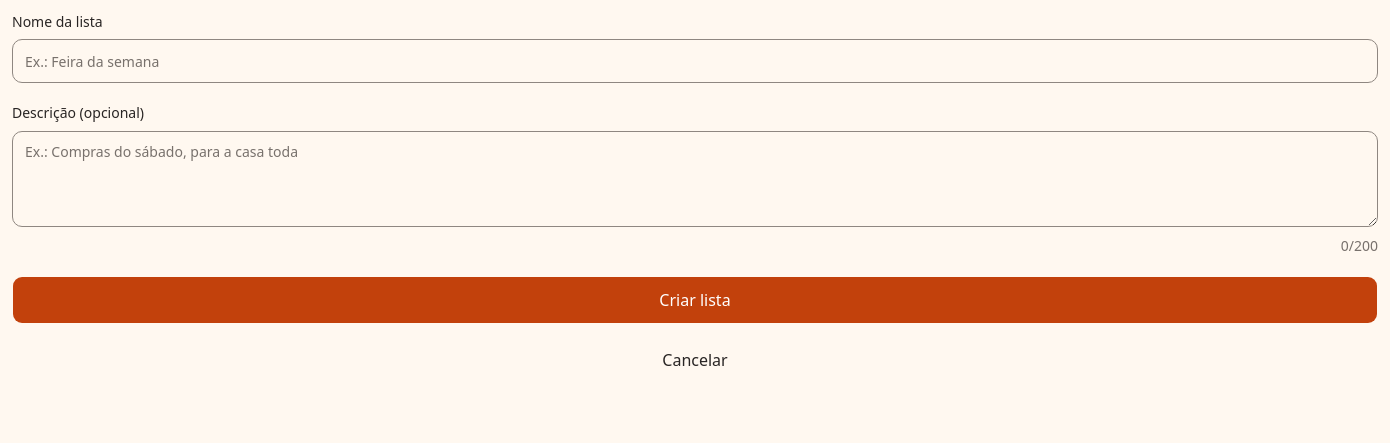
NewListForm › reports when the server cannot be reached
Type "Feira" into the field labelled "Nome da lista".
click(695, 61); type("Feira")  # box [12, 39, 1378, 83]
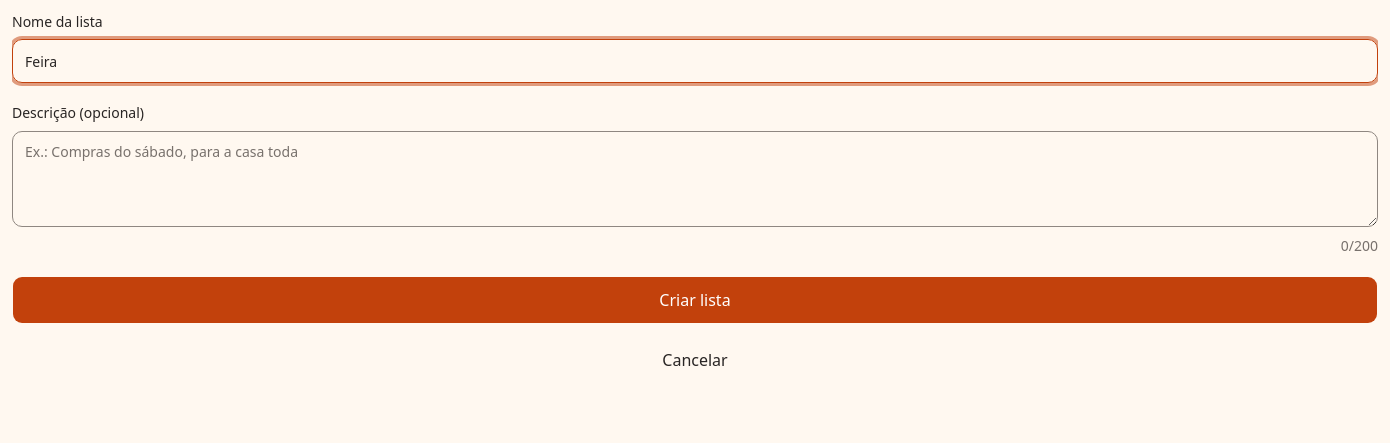
Click the button "Criar lista".
click(695, 300)  # box [12, 276, 1378, 324]
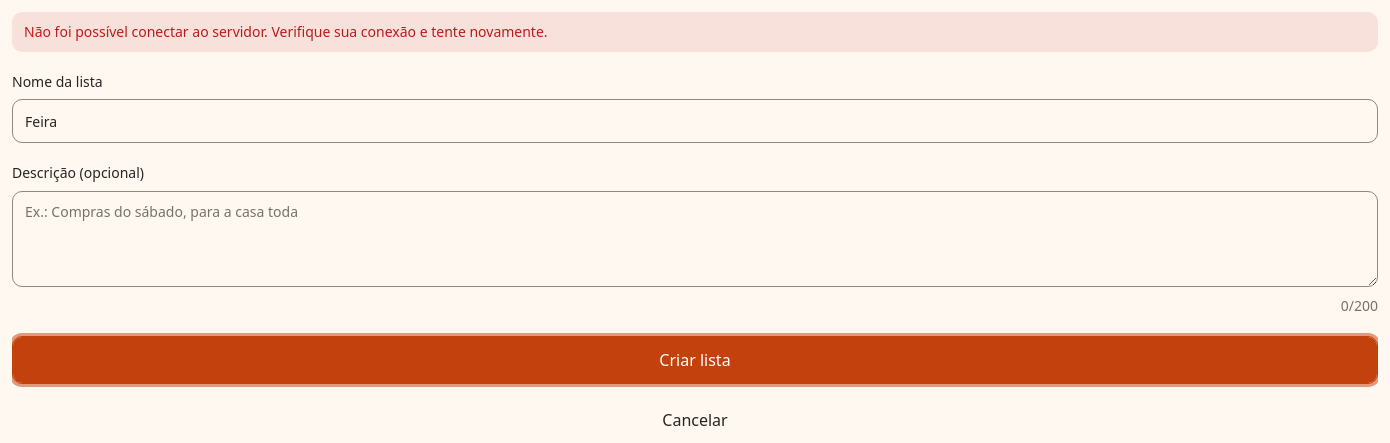
Expected: the message shows "Não foi possível conectar", [24, 22, 548, 41]
